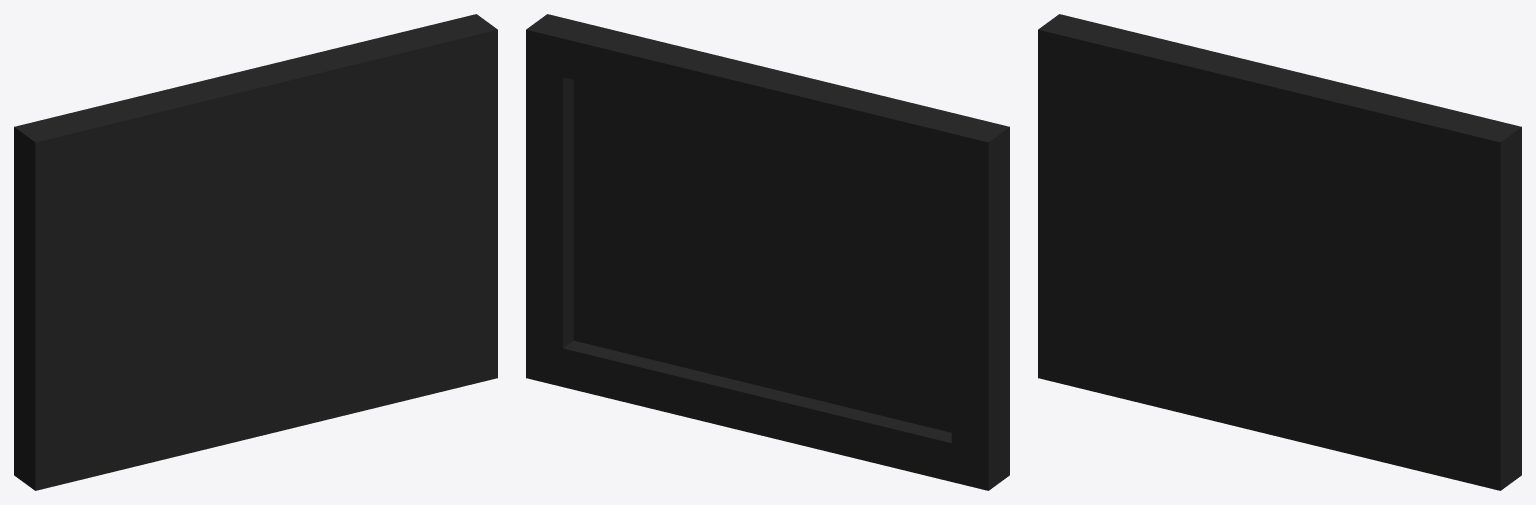
File: frame_02.glb
3 renders of one model, left to right at view 1: azimuth 30°, elevation 25°; view 2: azimuth 150°, elevation 25°; view 3: azimuth 330°, elevation 25°, orthographic.
Parts seen in each view (by area): view 1: Untitled; view 2: Untitled; view 3: Untitled.
Part boxes in pixels (left/top/right/bottom): Untitled: left=14, top=14, right=497, bottom=490; Untitled: left=526, top=14, right=1009, bottom=490; Untitled: left=1038, top=14, right=1521, bottom=490.
Size of the model in its own units: 0.75 by 0.54 by 0.06.
1 material, 1 textured.
